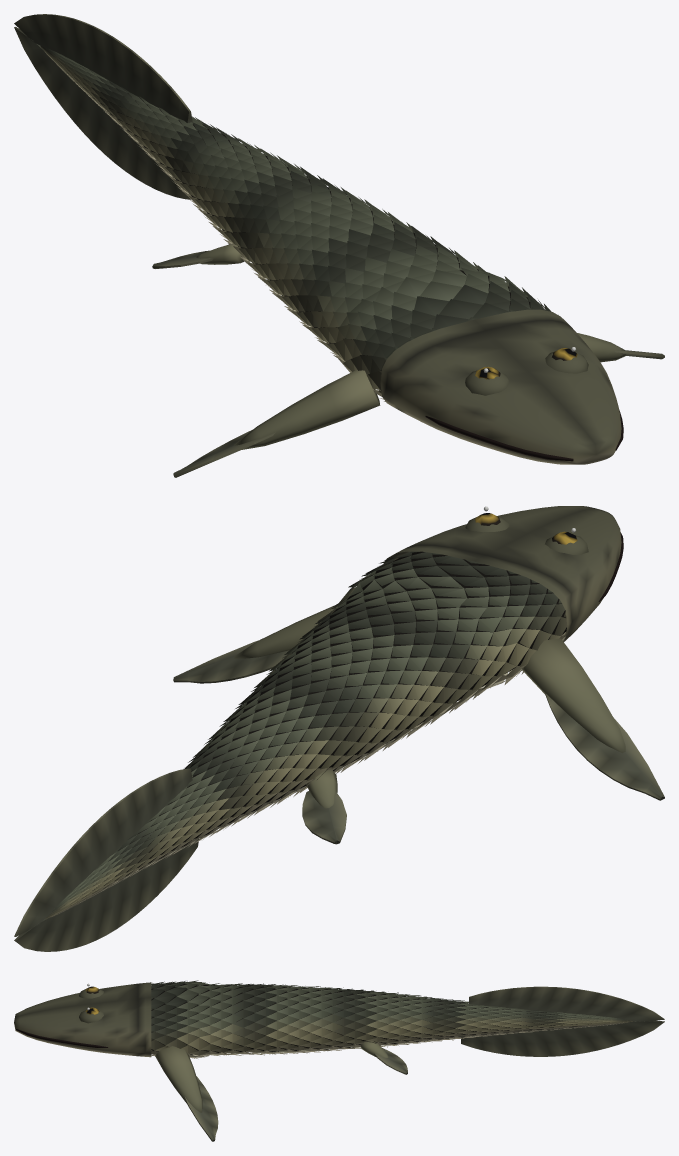
File: Elpistostege.fbx
The picture shows the model from 3 angles, top to bottom: view 1: azimuth 30°, elevation 25°; view 2: azimuth 150°, elevation 25°; view 3: azimuth 270°, elevation 25°; orthographic projection. The views are drawn at different scales.
Parts seen in each view (by area): view 1: Elpistostege; view 2: Elpistostege; view 3: Elpistostege.
Part boxes in pixels (x1,y1,x2,y2): Elpistostege: (14, 14, 664, 477); Elpistostege: (14, 506, 664, 951); Elpistostege: (14, 980, 664, 1141).
Bounding box in the file's own units: 0.8098 × 0.2486 × 1.66.
